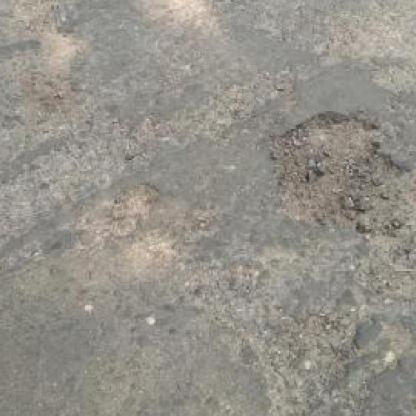pothole: (260, 108, 405, 223), (249, 308, 362, 416), (106, 181, 162, 237)
